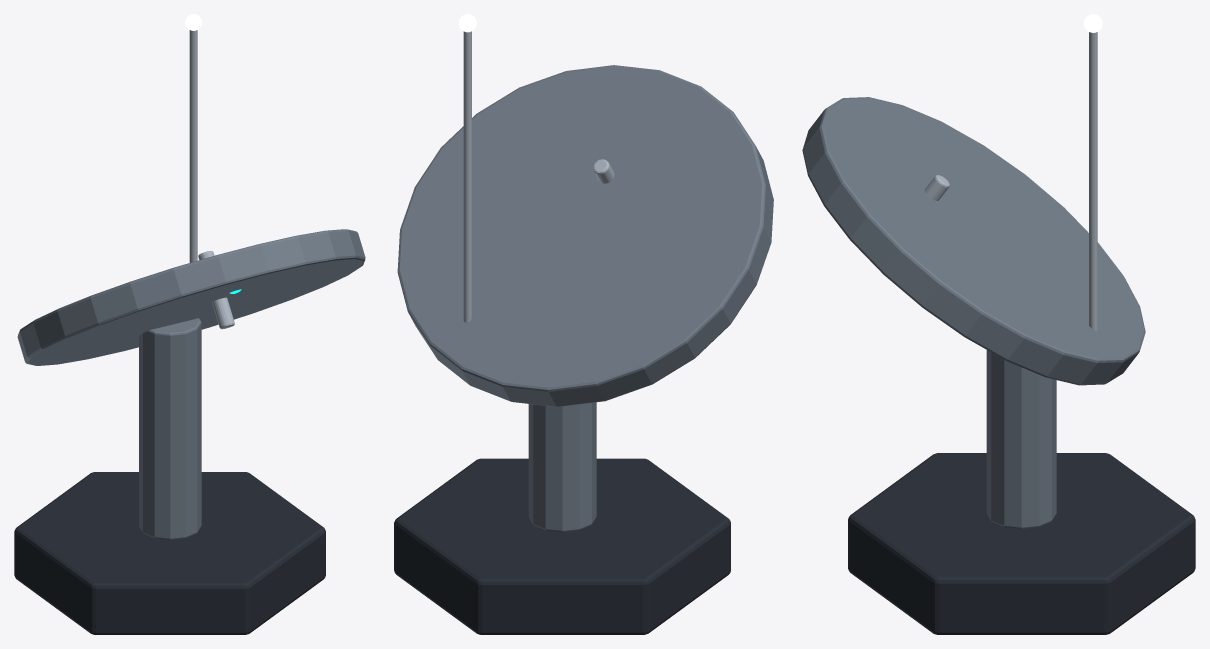
File: tactical_comm_array.glb
3 views of the same model, side by side, from view 1: azimuth 30°, elevation 25°; view 2: azimuth 150°, elevation 25°; view 3: azimuth 270°, elevation 25° (orthographic). The views are drawn at different scales.
Visible parts, largest first — view 1: Mount_Plinth, Parabolic_Dish, Mast_Shaft, Omni_Antenna, Feed_Probe; view 2: Parabolic_Dish, Mount_Plinth, Mast_Shaft, Omni_Antenna; view 3: Parabolic_Dish, Mount_Plinth, Mast_Shaft, Omni_Antenna.
Boxes of the visible parts, x1,y1,x2,y2 form: Mount_Plinth: (14,472,325,634); Parabolic_Dish: (17,229,365,365); Mast_Shaft: (139,318,201,539); Omni_Antenna: (189,30,197,262); Feed_Probe: (198,251,234,329); Parabolic_Dish: (397,65,773,406); Mount_Plinth: (394,458,730,634); Mast_Shaft: (528,402,596,532); Omni_Antenna: (463,31,471,322); Parabolic_Dish: (802,97,1145,385); Mount_Plinth: (848,453,1195,634); Mast_Shaft: (986,350,1056,528); Omni_Antenna: (1089,32,1097,330).
Size of the model in its own units: 2.5 by 4.08 by 2.47.
